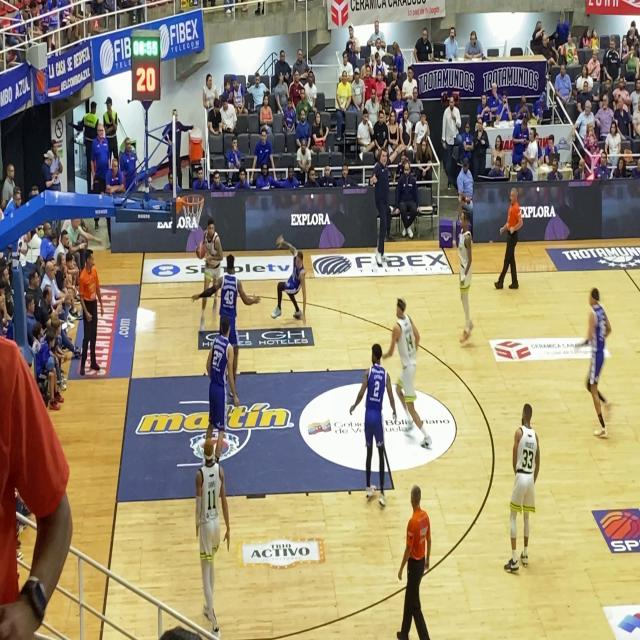Ball: (195, 236, 207, 266)
referee: (390, 474, 442, 640), (491, 175, 526, 304), (78, 240, 108, 384)
team1: (188, 437, 235, 640), (385, 274, 433, 464), (501, 394, 544, 591), (450, 209, 480, 361), (191, 215, 223, 324)
team2: (349, 338, 396, 516), (578, 276, 615, 452), (268, 222, 316, 352), (202, 250, 262, 332), (203, 307, 232, 443)
ubasket: (176, 184, 208, 239)
